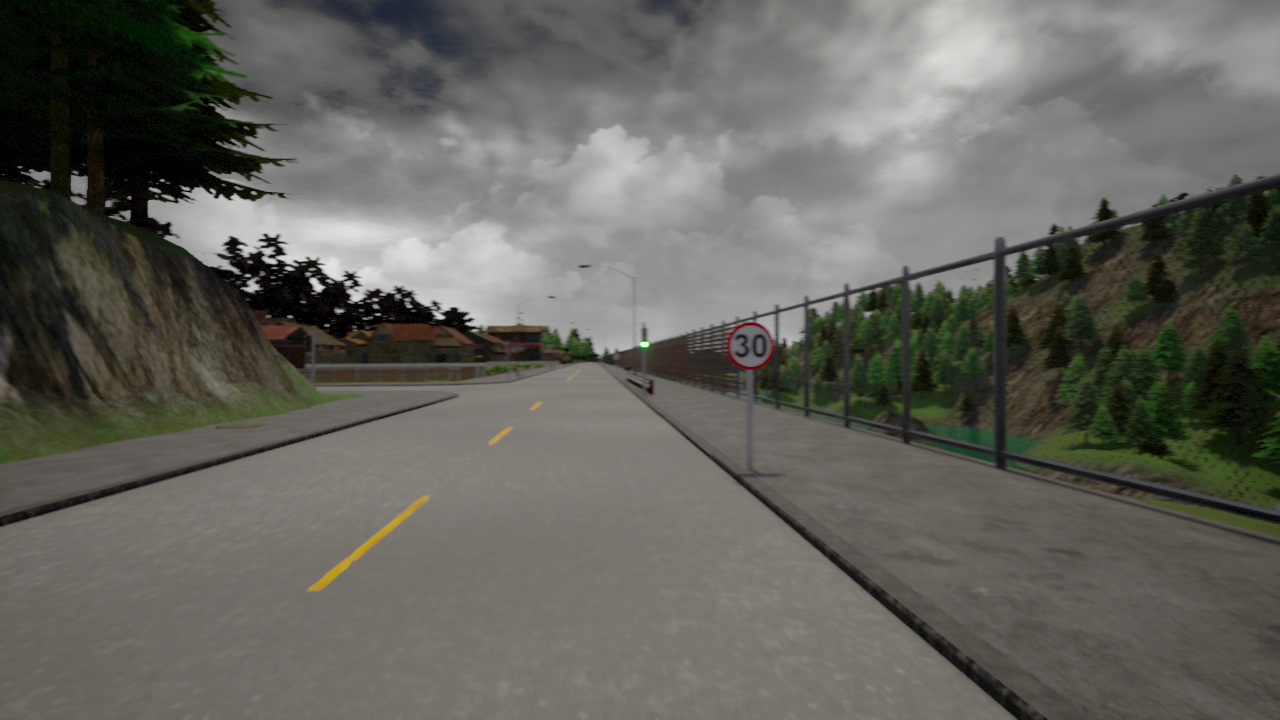green: (639, 328, 649, 348)
